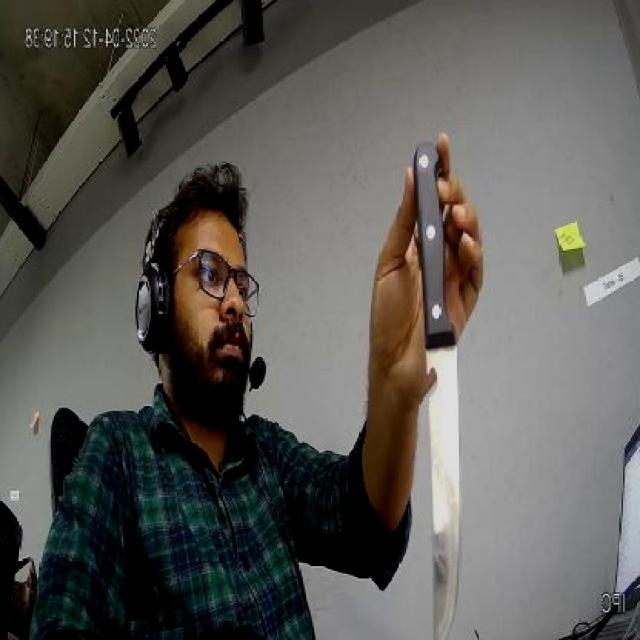knife: (412, 258, 463, 638)
